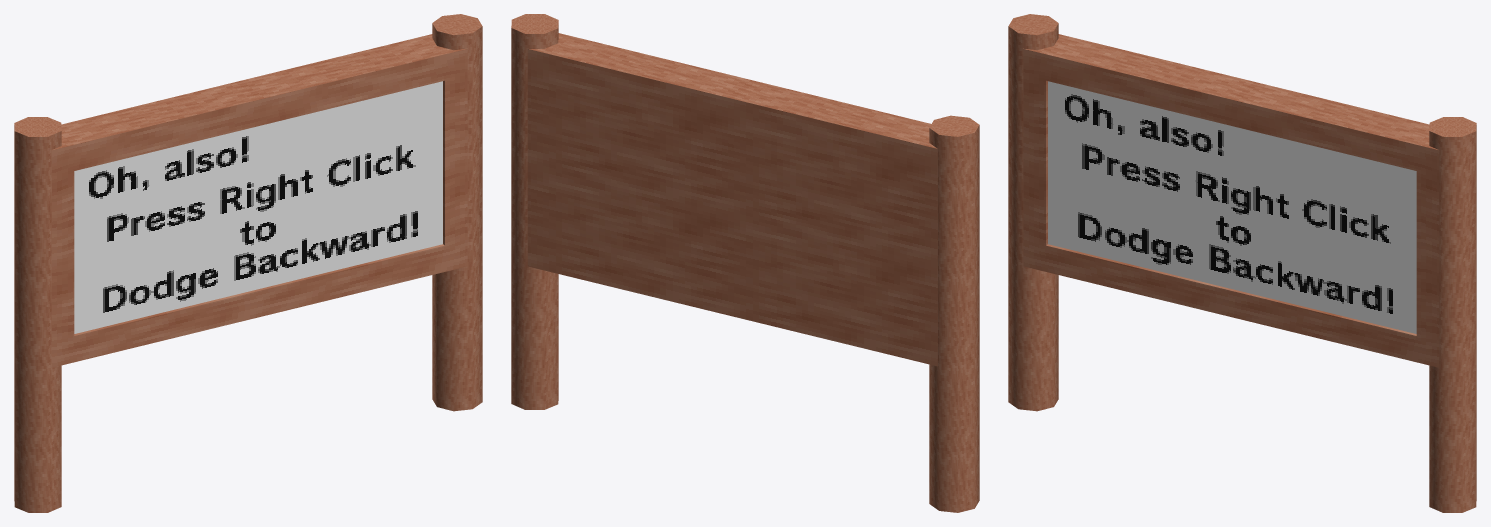
File: sign3.glb
3 renders of one model, left to right at view 1: azimuth 30°, elevation 25°; view 2: azimuth 150°, elevation 25°; view 3: azimuth 330°, elevation 25°, orthographic.
Visible parts, largest first — view 1: Cube; view 2: Cube; view 3: Cube.
Boxes of the visible parts, x1,y1,x2,y2 form: Cube: [14, 14, 482, 512]; Cube: [511, 14, 979, 512]; Cube: [1008, 14, 1476, 512].
Size of the model in its own units: 4.45 by 3.46 by 0.4206.
Materials: 2 (2 with a texture image).
